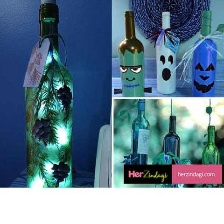bottle: (22, 1, 76, 189), (116, 9, 147, 97), (188, 8, 217, 96), (153, 9, 179, 95), (126, 97, 151, 173), (159, 113, 184, 177), (199, 121, 221, 169)
